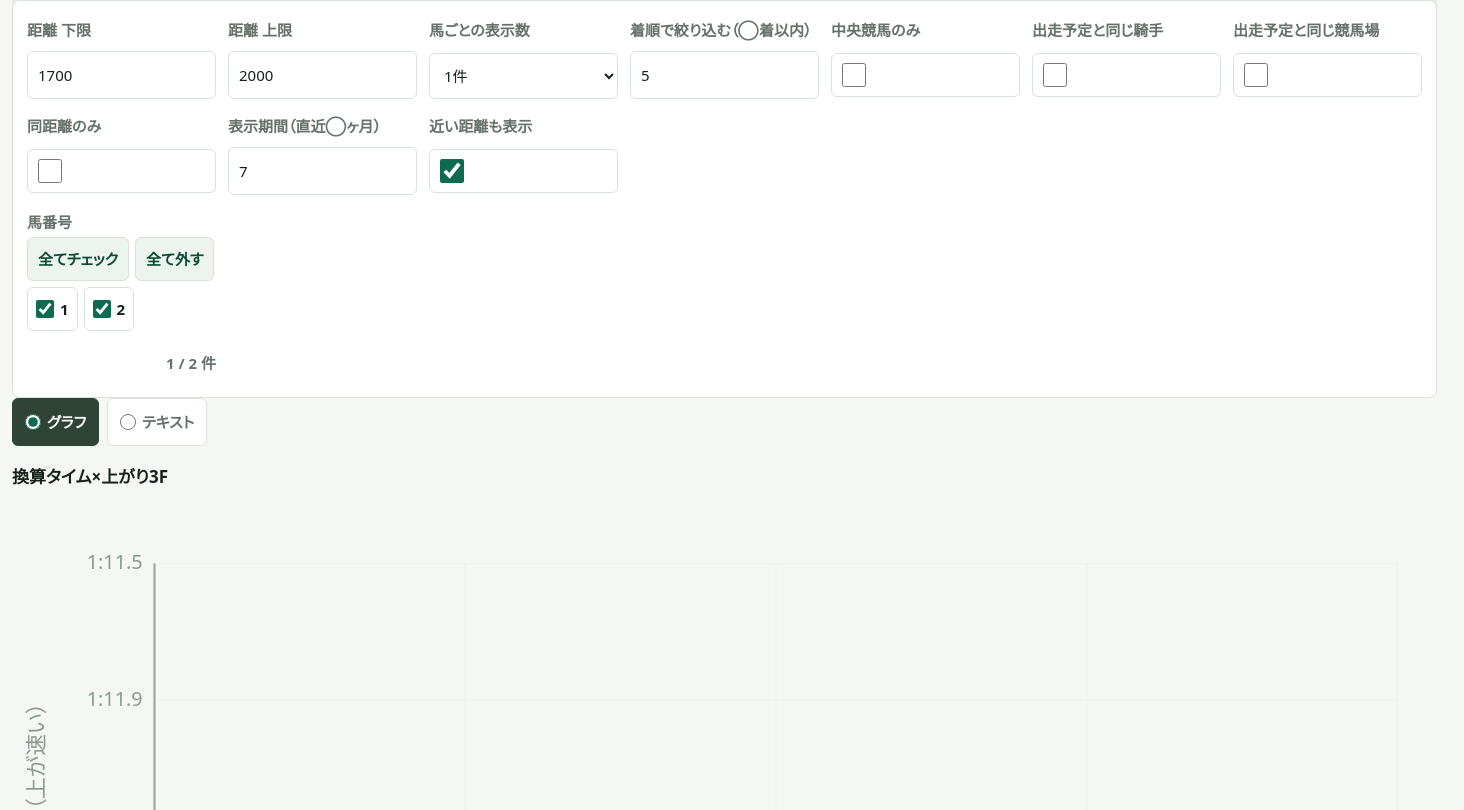
Scenario: horse race results table › shows only fifth-place or better results by default while matching rows remain
Click the radio button labelled "テキスト" at [128, 422], box [120,414,136,430]
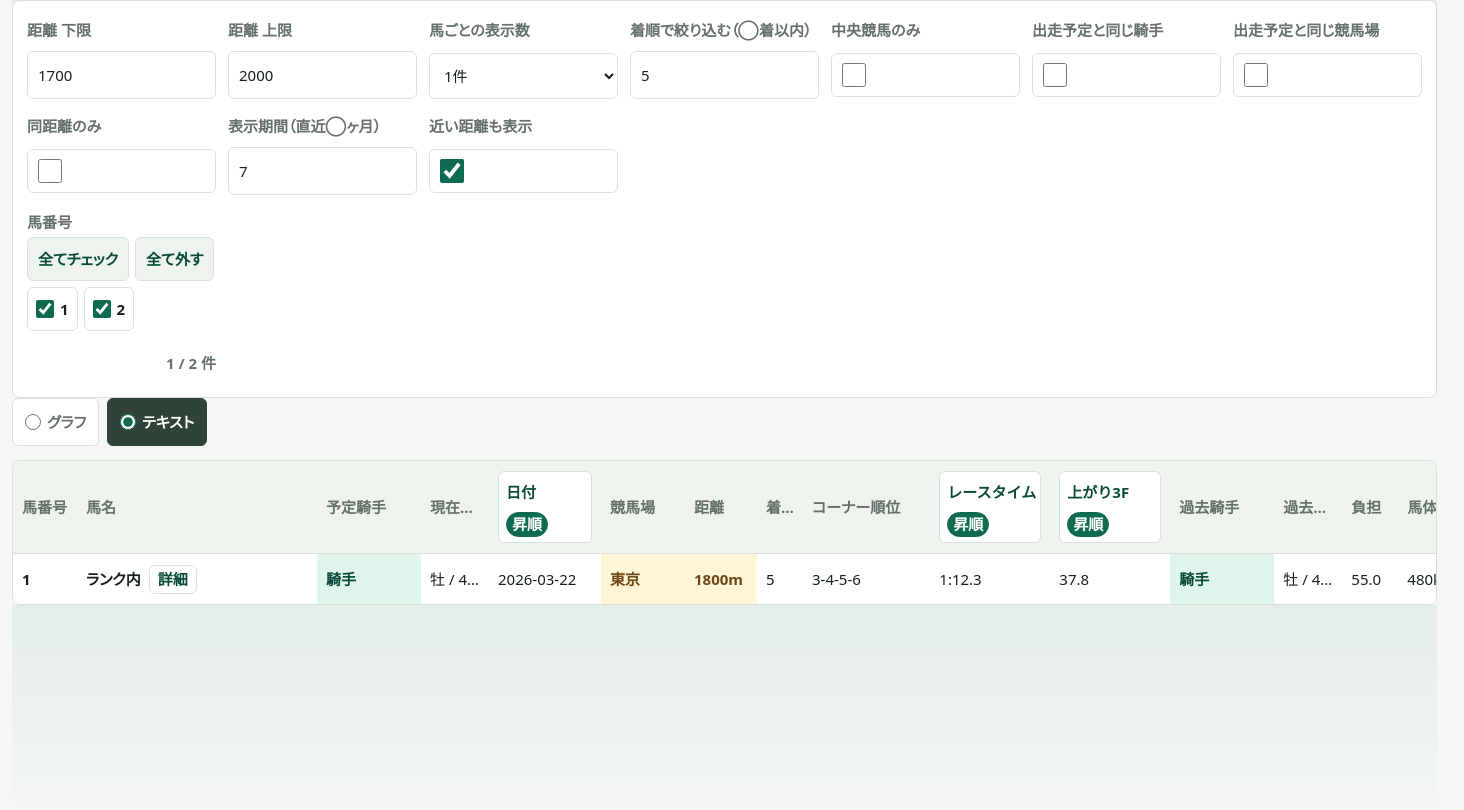
Now the text "ランク内" is shown, box [86,564,141,594]
Now the text "3-4-5-6" is shown, box [803,554,930,604]
